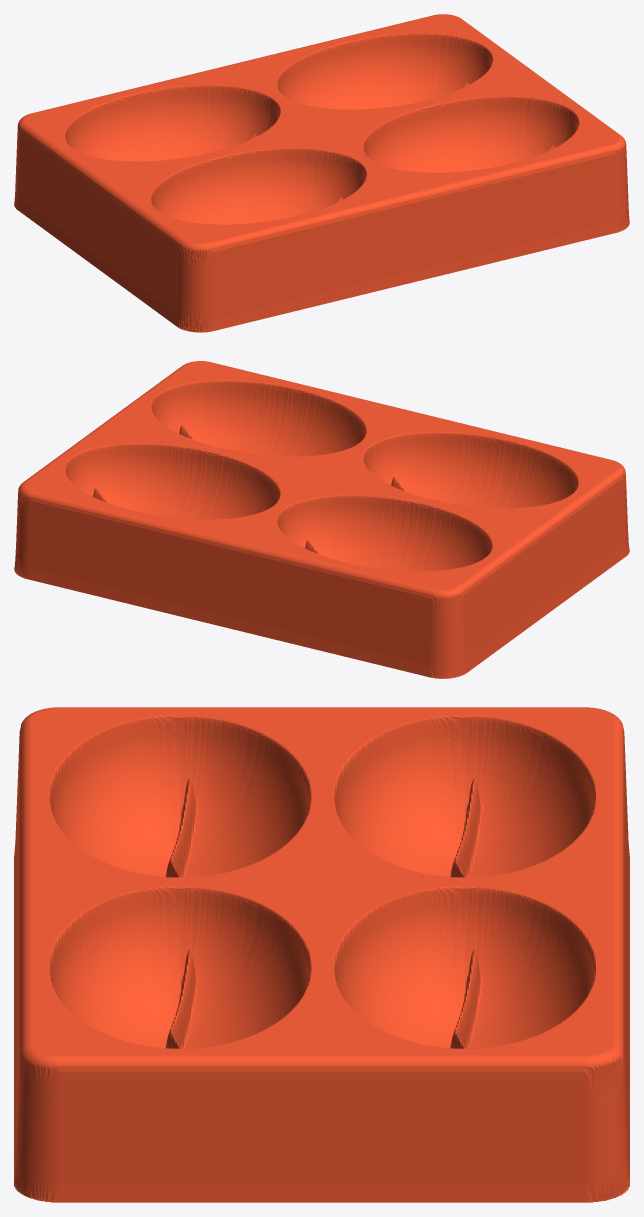
The model's file is mold.glb.
3 renders of one model, top to bottom at view 1: azimuth 30°, elevation 25°; view 2: azimuth 150°, elevation 25°; view 3: azimuth 270°, elevation 25°, orthographic. The views are drawn at different scales.
Parts seen in each view (by area): view 1: geometry_0; view 2: geometry_0; view 3: geometry_0.
Boxes of the visible parts, x1=… form: geometry_0: x1=14, y1=14, x2=629, y2=332; geometry_0: x1=14, y1=361, x2=629, y2=678; geometry_0: x1=14, y1=707, x2=629, y2=1202.
Bounding box in the file's own units: 0.1721 × 0.031 × 0.1238.
